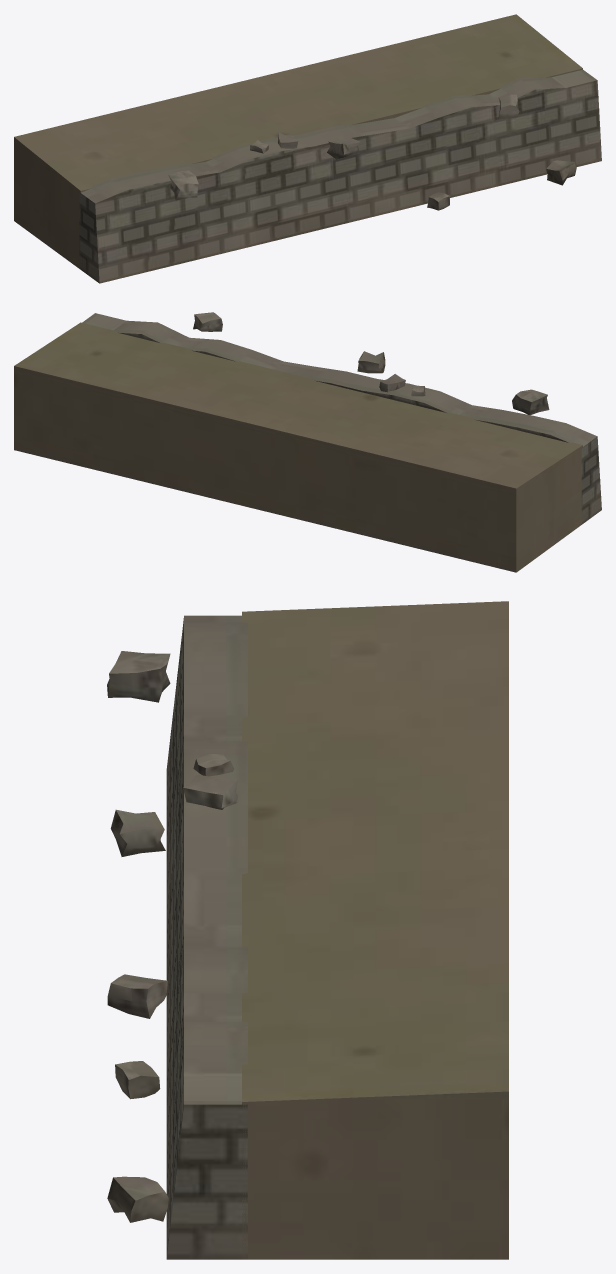
The model's file is a21_terrace_wall.glb.
3 renders of one model, top to bottom at view 1: azimuth 30°, elevation 25°; view 2: azimuth 150°, elevation 25°; view 3: azimuth 270°, elevation 25°, orthographic. The views are drawn at different scales.
Parts seen in each view (by area): view 1: body; view 2: body; view 3: body.
Boxes of the visible parts, x1,y1,x2,y2 form: body: [14, 14, 601, 283]; body: [14, 312, 601, 572]; body: [107, 601, 508, 1259].
Bounding box in the file's own units: 1 × 0.1812 × 0.3465.
1 material, 1 textured.
